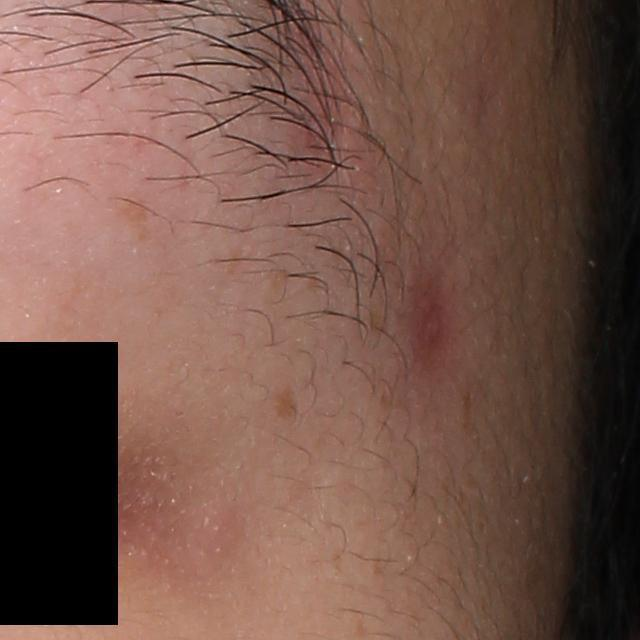melasma: (271, 376, 300, 422)
